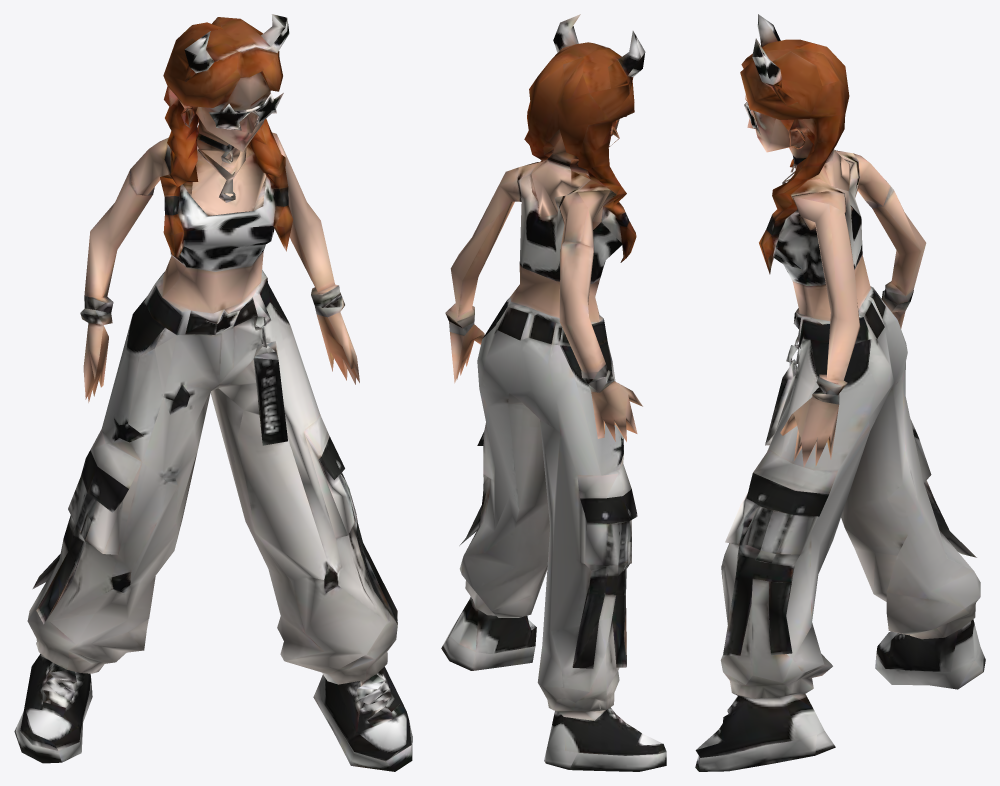
File: fan06.glb
The picture shows the model from 3 angles, left to right: view 1: azimuth 30°, elevation 25°; view 2: azimuth 150°, elevation 25°; view 3: azimuth 270°, elevation 25°; orthographic projection. The views are drawn at different scales.
Visible parts, largest first — view 1: material_proxy; view 2: material_proxy; view 3: material_proxy.
Boxes of the visible parts, <box> form: material_proxy: <box>14,14,412,771</box>; material_proxy: <box>441,14,666,771</box>; material_proxy: <box>695,14,985,771</box>.
Size of the model in its own units: 0.4701 by 1.15 by 0.4332.
Materials: 1 (1 with a texture image).
